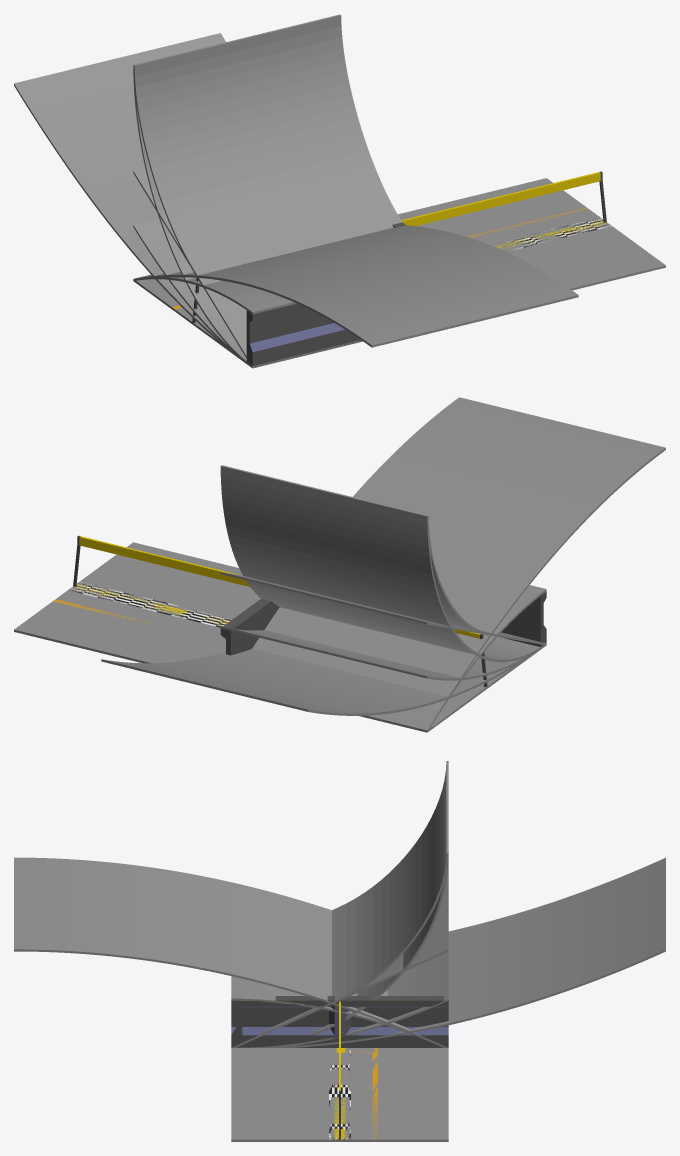
Rendered from planes.glb.
The picture shows the model from 3 angles, top to bottom: view 1: azimuth 30°, elevation 25°; view 2: azimuth 150°, elevation 25°; view 3: azimuth 270°, elevation 25°; orthographic projection. The views are drawn at different scales.
Parts seen in each view (by area): view 1: PlaneSlopeToVertical, PlaneSlopeDownLong, PlaneSlopeUpLong, PlaneCheckpointWide, PlaneStartWide, PlaneFinishWide, PlaneWall, PlaneSlopeVertical, PlaneSlopeUp, PlaneSlopeDown, PlaneSlope, PlaneStart; view 2: PlaneSlopeDownLong, PlaneSlopeVertical, PlaneCheckpointWide, PlaneSlopeUpLong, PlaneFinishWide, PlaneStartWide, PlaneWallCorner, PlaneSlopeUp, PlaneSlope, PlaneWall, PlaneSlopeToVertical, PlaneSlopeDown (+1 smaller); view 3: PlaneSlopeDownLong, PlaneSlopeUpLong, PlaneStartWide, PlaneCheckpointWide, PlaneSlopeToVertical, PlaneWallCorner, PlaneFinishWide, PlaneSlopeUp, PlaneSlope, PlaneSlopeVertical, PlaneSlopeDown.
Part boxes in pixels (<box>): PlaneSlopeToVertical: <box>134,15,401,367</box>; PlaneSlopeDownLong: <box>133,225,578,347</box>; PlaneSlopeUpLong: <box>14,33,323,368</box>; PlaneCheckpointWide: <box>138,171,665,366</box>; PlaneStartWide: <box>138,178,665,336</box>; PlaneFinishWide: <box>137,178,664,288</box>; PlaneWall: <box>246,303,361,367</box>; PlaneSlopeVertical: <box>133,14,340,361</box>; PlaneSlopeUp: <box>133,218,231,349</box>; PlaneSlopeDown: <box>142,277,296,314</box>; PlaneSlope: <box>133,168,251,364</box>; PlaneStart: <box>137,280,351,347</box>; PlaneSlopeDownLong: <box>252,397,665,732</box>; PlaneSlopeVertical: <box>220,465,541,662</box>; PlaneCheckpointWide: <box>14,535,478,731</box>; PlaneSlopeUpLong: <box>101,643,546,715</box>; PlaneFinishWide: <box>15,543,505,731</box>; PlaneStartWide: <box>14,542,419,730</box>; PlaneWallCorner: <box>220,597,546,655</box>; PlaneSlopeUp: <box>220,626,529,680</box>; PlaneSlope: <box>220,572,546,644</box>; PlaneWall: <box>502,591,546,646</box>; PlaneSlopeToVertical: <box>222,465,539,641</box>; PlaneSlopeDown: <box>439,585,546,713</box>; PlaneSlopeDownLong: <box>14,857,447,1047</box>; PlaneSlopeUpLong: <box>244,857,665,1047</box>; PlaneStartWide: <box>231,1048,448,1141</box>; PlaneCheckpointWide: <box>231,1001,448,1141</box>; PlaneSlopeToVertical: <box>232,761,448,1047</box>; PlaneWallCorner: <box>231,996,448,1047</box>; PlaneFinishWide: <box>231,1048,448,1141</box>; PlaneSlopeUp: <box>251,951,448,1047</box>; PlaneSlope: <box>344,859,448,998</box>; PlaneSlopeVertical: <box>237,761,448,1047</box>; PlaneSlopeDown: <box>231,976,433,1043</box>.
Bounding box in the file's own units: 40 × 20 × 60.
